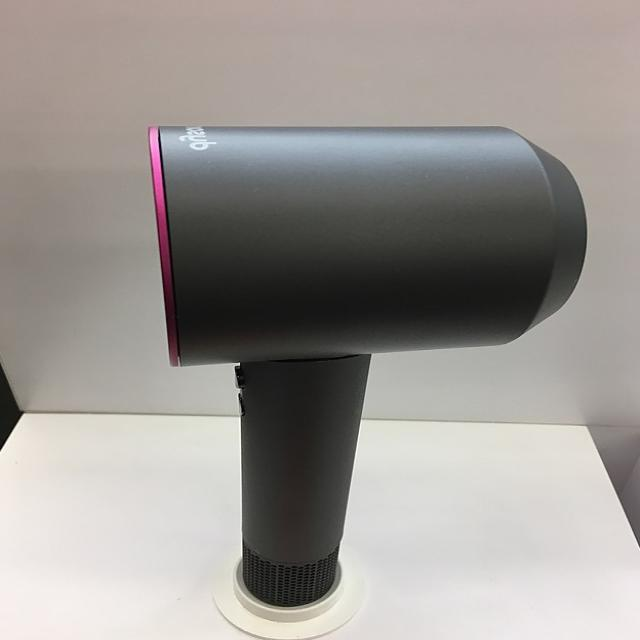dryer: (147, 124, 587, 608)
